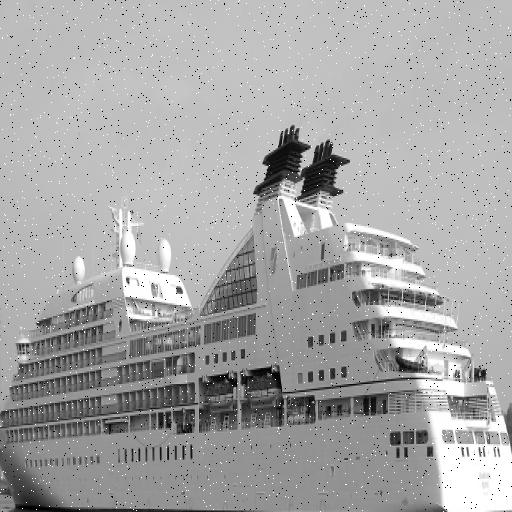cruises: (1, 121, 512, 512)
